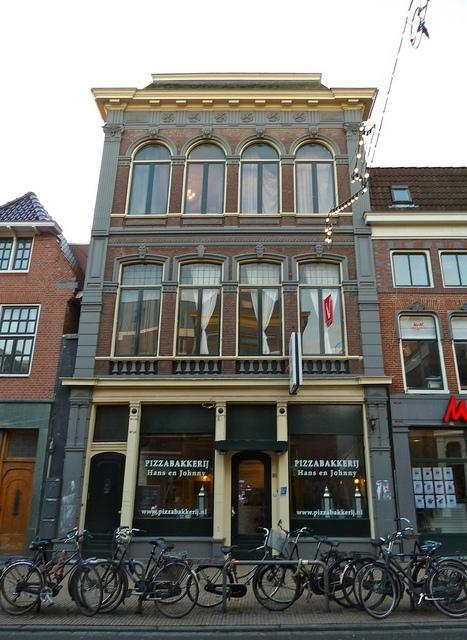bicycle: (92, 532, 202, 620), (360, 530, 466, 620), (188, 524, 302, 606), (1, 536, 103, 616), (284, 527, 348, 599), (340, 539, 386, 608), (327, 538, 346, 556)
